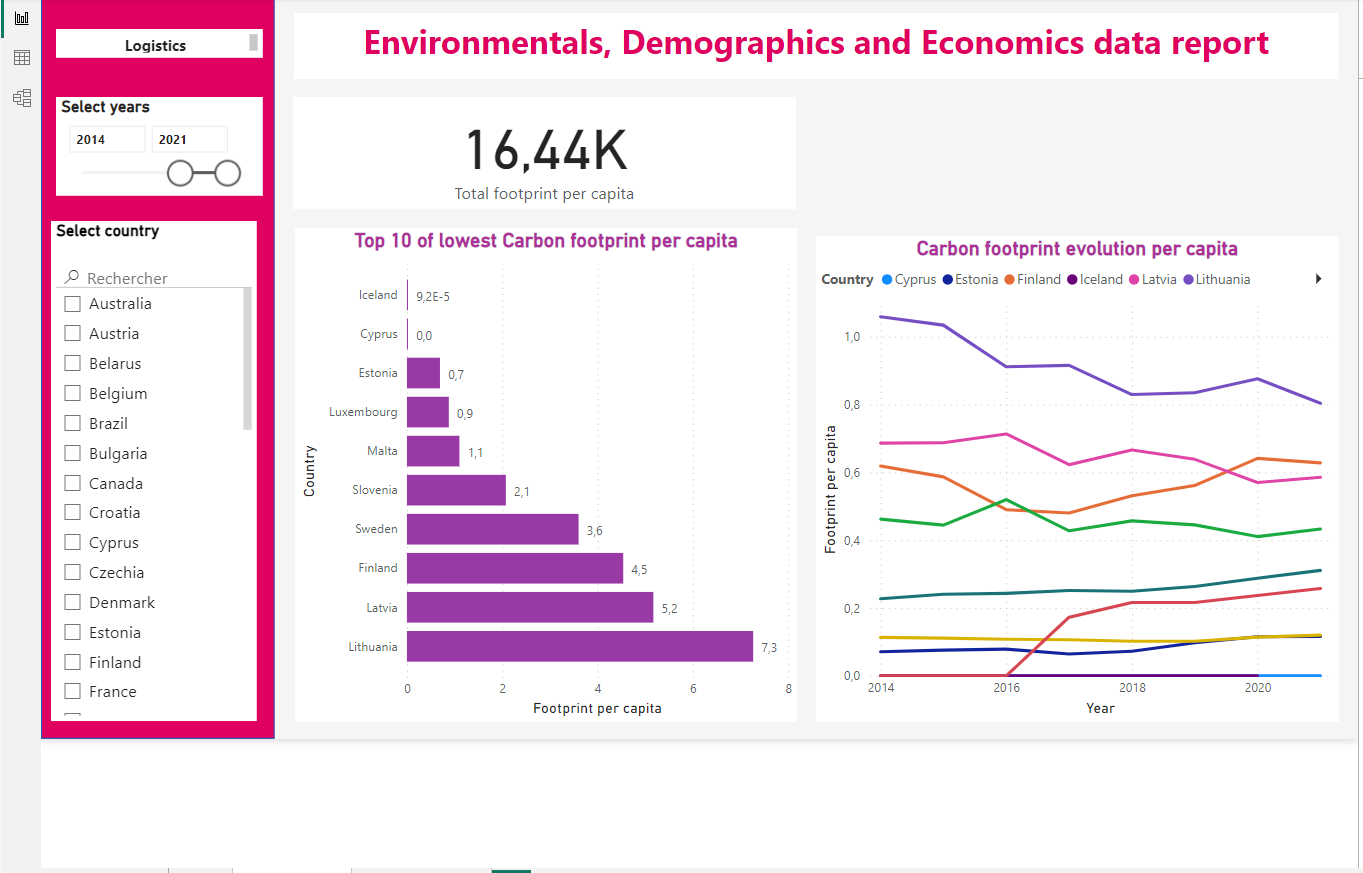

The page's visual inventory and layout, read from the dashboard file:
{"tool":"powerbi","page":{"name":"FINGER PRINT","canvas":[1280,720],"ordinal":1},"visuals":[{"type":"shape","box":[0,0,227.1,720],"z":0,"group":"g2"},{"type":"slicer","title":"Select years","fields":{"Values":["DimDate.FullDate.Variation.Hiérarchie de dates.Année"]},"box":[15,95.9,200.9,96.3],"z":0,"group":"g1"},{"type":"textbox","box":[246.2,15,1015,63.8],"z":1000},{"type":"group","id":"g1","title":"Groupe 5","box":[15,95.9,200.4,95.9],"z":1000,"group":"g2"},{"type":"barChart","title":"Top 10 of lowest Carbon footprint per capita","fields":{"Category":["Country Table.Country"],"Y":["Mesures.Footprint per capita"]},"box":[246.7,223.3,488.3,480],"z":2000},{"type":"group","id":"g2","title":"Groupe 4","box":[0,0,227.1,720],"z":3000},{"type":"slicer","title":"Select country","fields":{"Values":["Country Table.Country"]},"box":[10,217.1,200,485.7],"z":3000,"group":"g2"},{"type":"textbox","box":[14.6,30.1,201.2,28.2],"z":4000,"group":"g2"},{"type":"card","fields":{"Values":["Mesures.Empreinte_Carbone"]},"box":[245,96.2,488.8,108.8],"z":4000},{"type":"lineChart","title":"Carbon footprint evolution per capita","fields":{"Y":["Mesures.Empreinte_Carbone"],"Series":["Country Table.Country"],"Category":["DimDate.FullDate.Variation.Hiérarchie de dates.Année"]},"box":[753.3,231.7,508.3,471.7],"z":5000}]}

Visuals, with their boxes on the page's 1280x720 design canvas (x1, y1, x2, y2). These are canvas units, not pixel positions in the 1363x873 screenshot, which may show the page scaled, cropped or inside an application window:
shape: bbox=(0, 0, 227, 720)
"Select years" slicer: bbox=(15, 96, 216, 192)
textbox: bbox=(246, 15, 1261, 79)
"Groupe 5" group: bbox=(15, 96, 215, 192)
"Top 10 of lowest Carbon footprint per capita" barChart: bbox=(247, 223, 735, 703)
"Groupe 4" group: bbox=(0, 0, 227, 720)
"Select country" slicer: bbox=(10, 217, 210, 703)
textbox: bbox=(15, 30, 216, 58)
card - Mesures.Empreinte_Carbone: bbox=(245, 96, 734, 205)
"Carbon footprint evolution per capita" lineChart: bbox=(753, 232, 1262, 703)
